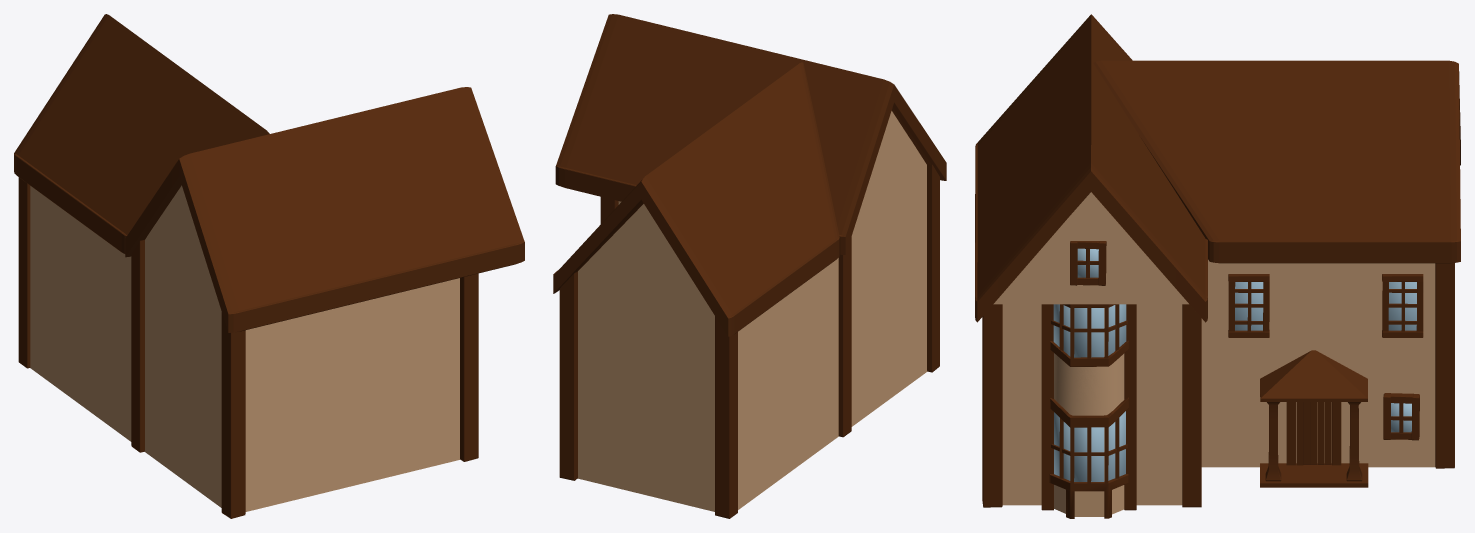
Rendered from house6.fbx.
3 views of the same model, side by side, from view 1: azimuth 30°, elevation 25°; view 2: azimuth 150°, elevation 25°; view 3: azimuth 270°, elevation 25° (orthographic). The views are drawn at different scales.
Parts seen in each view (by area): view 1: Cube.004, Cube.001, Cube.003, Cube, Cube.042, Cube.041, Cube.043, Cube.045; view 2: Cube, Cube.004, Cube.003, Cube.001, Cube.045, Cube.044, Cube.042, Cube.043; view 3: Cube.003, Cube.004, Cube, Cube.001, Cylinder, Cube.041, Cone, Cube.044, Cube.040, Cube.049, Cube.048, Cube.053 (+15 smaller).
Part boxes in pixels (x1,y1,x2,y2): Cube.004: (125, 87, 524, 332); Cube.001: (145, 185, 459, 511); Cube.003: (14, 14, 269, 253); Cube: (30, 186, 131, 441); Cube.042: (221, 312, 245, 518); Cube.041: (460, 273, 478, 461); Cube.043: (131, 240, 144, 452); Cube.045: (18, 177, 30, 368); Cube: (578, 204, 838, 511); Cube.004: (555, 14, 946, 254); Cube.003: (553, 62, 839, 336); Cube.001: (618, 111, 927, 426); Cube.045: (715, 316, 737, 518); Cube.044: (559, 271, 577, 480); Cube.042: (926, 163, 939, 372); Cube.043: (838, 237, 851, 437); Cube.003: (1093, 60, 1460, 263); Cube.004: (975, 14, 1207, 322); Cube: (1201, 259, 1435, 467); Cube.001: (993, 192, 1188, 505); Cylinder: (1054, 308, 1124, 516); Cube.041: (982, 304, 1002, 507); Cone: (1260, 350, 1367, 401); Cube.044: (1435, 263, 1454, 468); Cube.040: (1182, 304, 1201, 507); Cube.049: (1041, 304, 1053, 510); Cube.048: (1124, 304, 1136, 510); Cube.053: (1260, 463, 1368, 487).
Bounding box in the file's own units: 3925 × 4149 × 5047.
